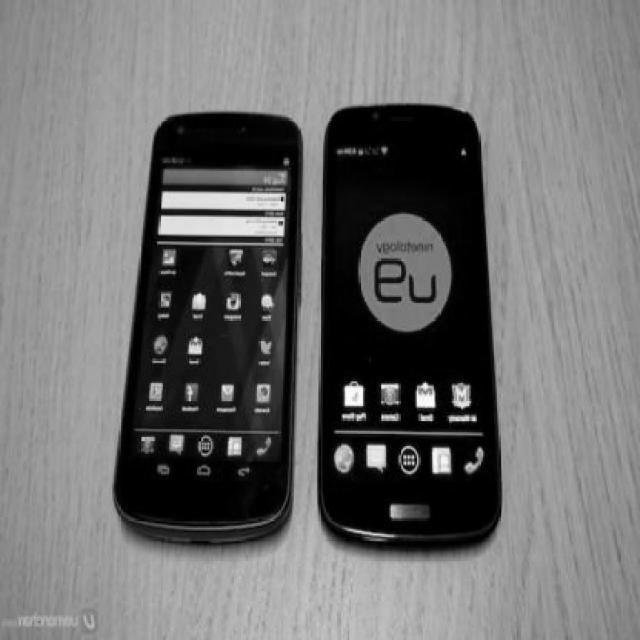fake: (112, 108, 303, 547), (320, 100, 502, 546)
